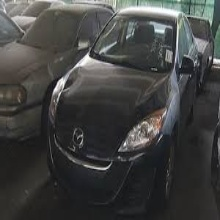no damage: (48, 7, 195, 209)
